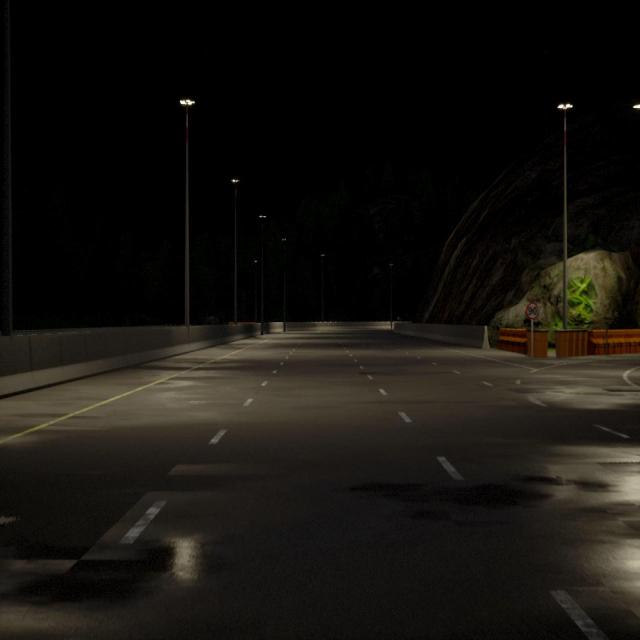Traffic_Signs: (526, 303, 539, 319)
